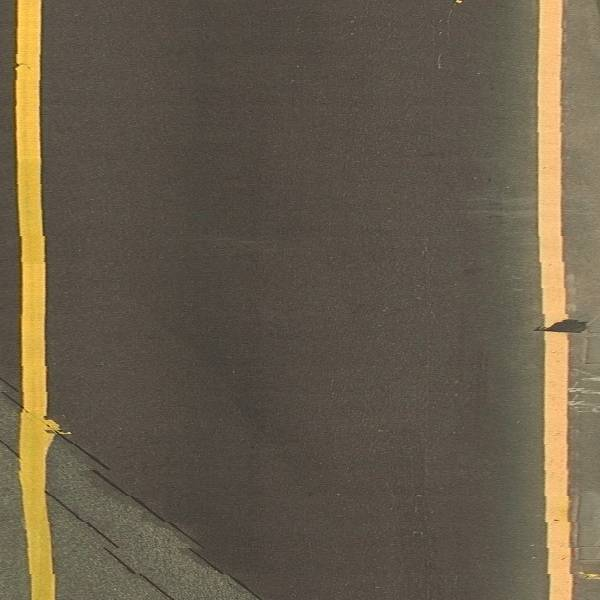road_damage: (58, 435, 257, 600)
